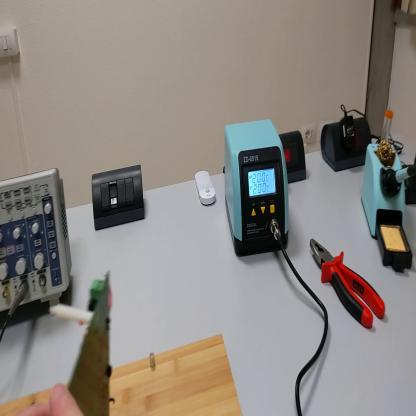electric screwdriver battery: (405, 164, 416, 203)
hand: (19, 384, 52, 415), (54, 383, 82, 412)
low voltage board: (44, 274, 113, 415)
oscilloscope: (2, 169, 72, 316)
pliers: (310, 236, 387, 331)
socket: (321, 116, 377, 173), (279, 132, 307, 184)
welder base: (365, 143, 413, 274)
welder probe tip: (382, 164, 412, 201)
welder station: (226, 120, 291, 257)
working area: (3, 336, 243, 414)
